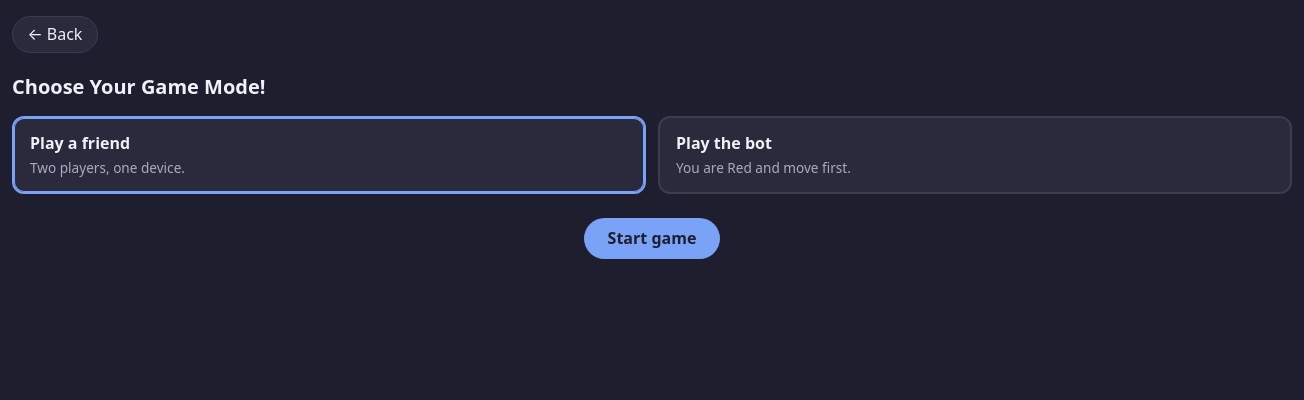
Connect4 setup › shows difficulty options only for the bot
Expected: the button "beginner" is not shown
Click the button "Play the bot You are Red and move first.". click: (724, 143)
box: [658,116,1292,194]
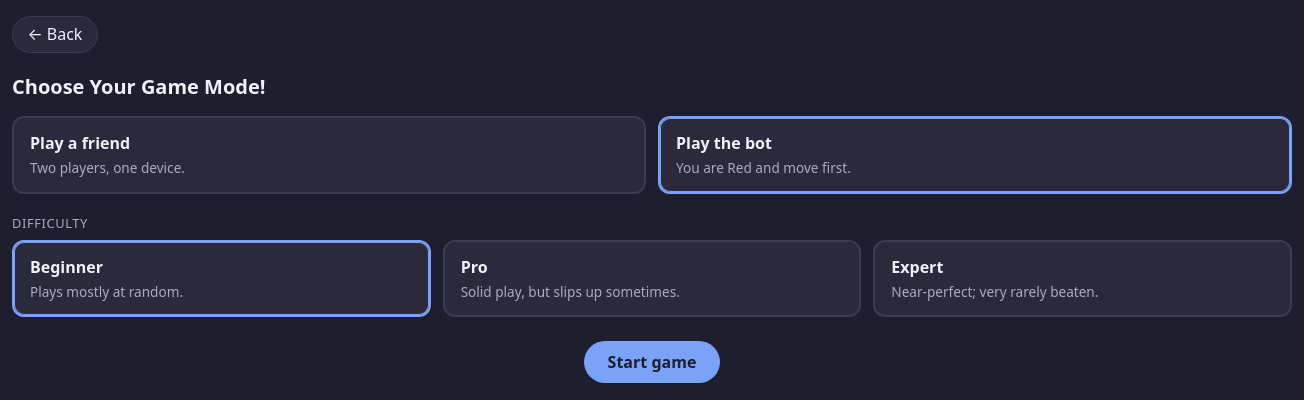
Expected: the button "Beginner Plays mostly at random." is shown, [12,240,431,317]
Expected: the button "Pro Solid play, but slips up sometimes." is shown, [443,240,861,317]
Expected: the button "Expert Near-perfect; very rarely beaten." is shown, [873,240,1292,317]
